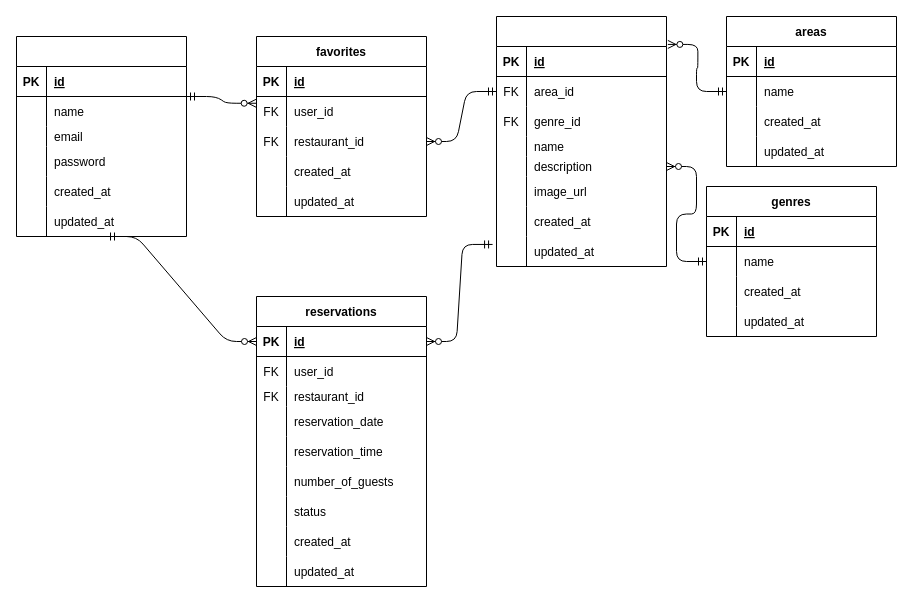
The diagram is 913 pixels wide and 603 high, and some of its shapes have lost their labels. Here are the shapes that lost their labels. From the top down, the box of each, then its label:
(16, 36, 186, 236): users
(496, 16, 666, 266): restaurants
